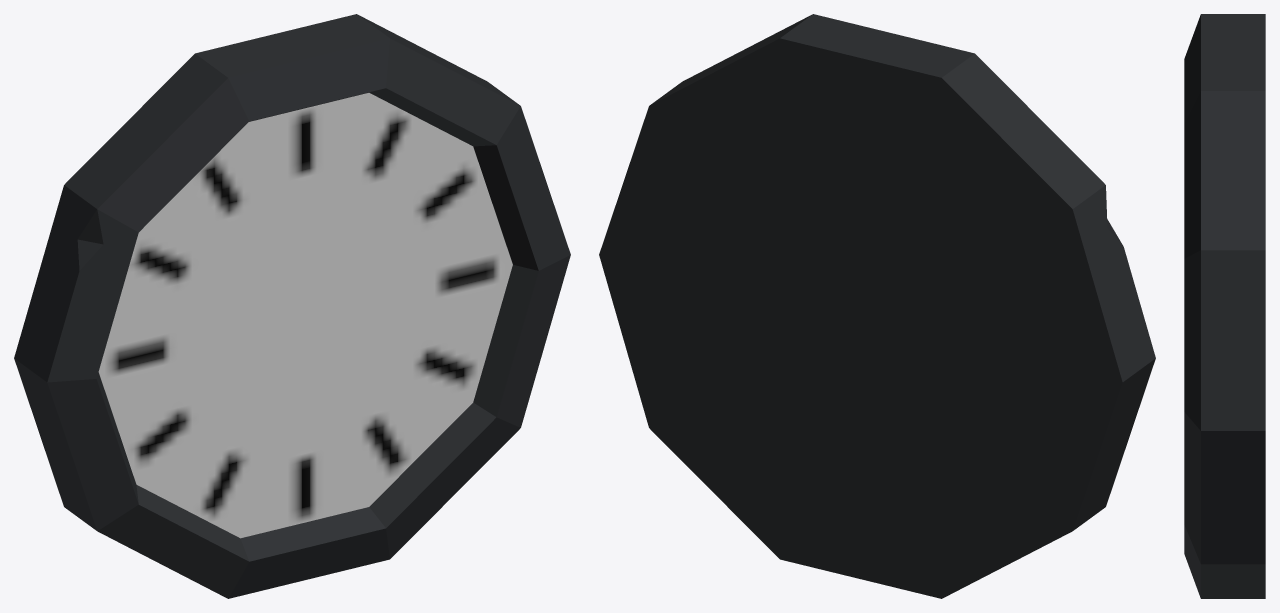
The model's file is SM_Gen_Prop_Clock_01.obj.
The picture shows the model from 3 angles, left to right: view 1: azimuth 30°, elevation 25°; view 2: azimuth 150°, elevation 25°; view 3: azimuth 270°, elevation 25°; orthographic projection. The views are drawn at different scales.
Parts seen in each view (by area): view 1: SM_Gen_Prop_Clock_01_0; view 2: SM_Gen_Prop_Clock_01_0; view 3: SM_Gen_Prop_Clock_01_0.
Part boxes in pixels (<box>): SM_Gen_Prop_Clock_01_0: <box>14,14,570,598</box>; SM_Gen_Prop_Clock_01_0: <box>599,14,1155,598</box>; SM_Gen_Prop_Clock_01_0: <box>1184,14,1265,598</box>.
Bounding box in the file's own units: 0.3913 × 0.3721 × 0.0542.
Materials: 1 (1 with a texture image).
